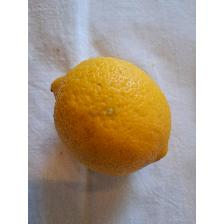Zitrone: (44, 49, 180, 179)
